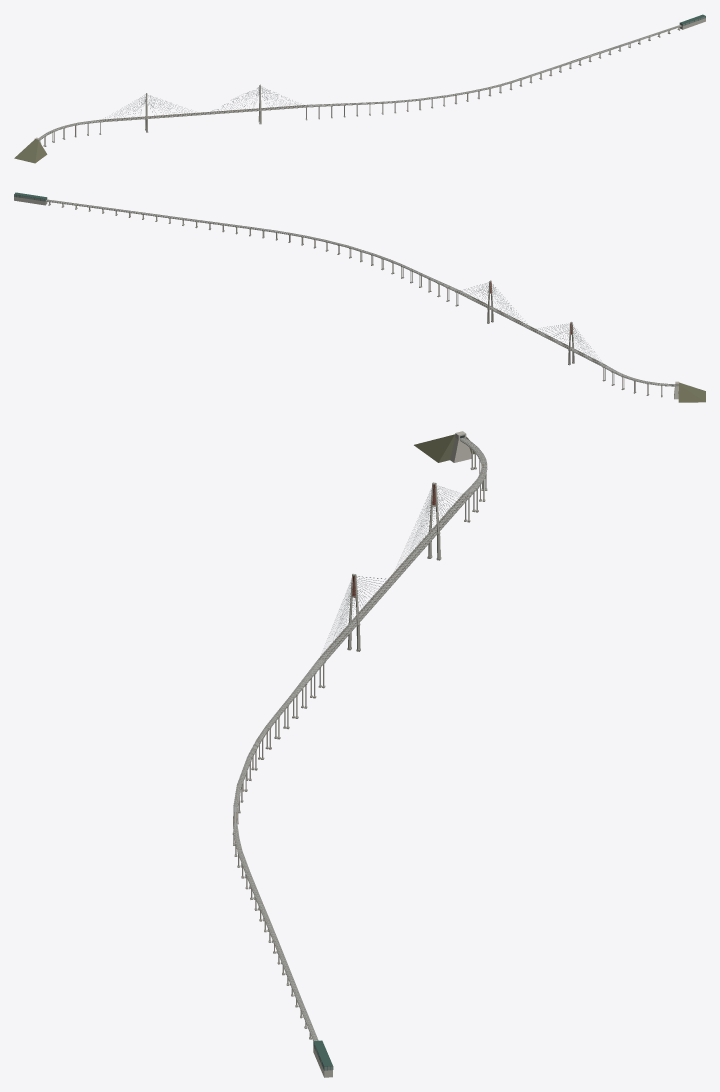
File: skybridge-vancouver-near.glb
3 renders of one model, top to bottom at view 1: azimuth 30°, elevation 25°; view 2: azimuth 150°, elevation 25°; view 3: azimuth 270°, elevation 25°, orthographic. The views are drawn at different scales.
Visible parts, largest first — view 1: skybridge-vancouver-0-concrete, skybridge-vancouver-0-deck, skybridge-vancouver-0-cable, skybridge-vancouver-0-earth, skybridge-vancouver-0-rail; view 2: skybridge-vancouver-0-concrete, skybridge-vancouver-0-deck, skybridge-vancouver-0-cable, skybridge-vancouver-0-earth; view 3: skybridge-vancouver-0-concrete, skybridge-vancouver-0-deck, skybridge-vancouver-0-cable, skybridge-vancouver-0-steel, skybridge-vancouver-0-rail.
Boxes of the visible parts, x1,y1,x2,y2 form: skybridge-vancouver-0-concrete: (35,18,705,146); skybridge-vancouver-0-deck: (40,25,681,139); skybridge-vancouver-0-cable: (105,86,296,118); skybridge-vancouver-0-earth: (14,139,47,163); skybridge-vancouver-0-rail: (41,45,621,137); skybridge-vancouver-0-concrete: (14,197,678,399); skybridge-vancouver-0-deck: (46,199,675,385); skybridge-vancouver-0-cable: (460,282,594,358); skybridge-vancouver-0-earth: (678,382,705,402); skybridge-vancouver-0-concrete: (232,431,487,1077); skybridge-vancouver-0-deck: (233,437,487,1040); skybridge-vancouver-0-cable: (321,486,462,653); skybridge-vancouver-0-steel: (234,438,485,1040); skybridge-vancouver-0-rail: (233,438,486,1039).
Bounding box in the file's own units: 2242 × 123 × 375.
